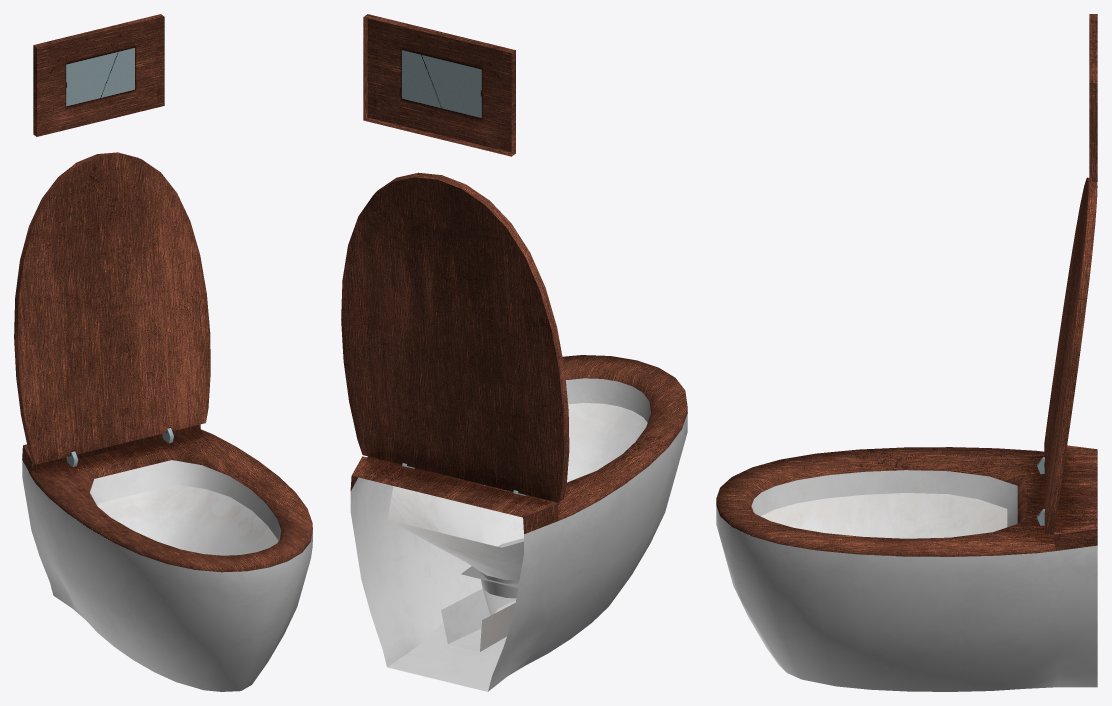
The model's file is Toilet.FBX.
3 renders of one model, left to right at view 1: azimuth 30°, elevation 25°; view 2: azimuth 150°, elevation 25°; view 3: azimuth 270°, elevation 25°, orthographic. The views are drawn at different scales.
Parts seen in each view (by area): view 1: Toilet_LOD0; view 2: Toilet_LOD0; view 3: Toilet_LOD0.
Boxes of the visible parts, x1=… form: Toilet_LOD0: x1=14, y1=14, x2=312, y2=691; Toilet_LOD0: x1=341, y1=14, x2=687, y2=691; Toilet_LOD0: x1=716, y1=14, x2=1097, y2=691.
Size of what is drawn, in the model's own units: 36.01 by 99.93 by 56.02.
